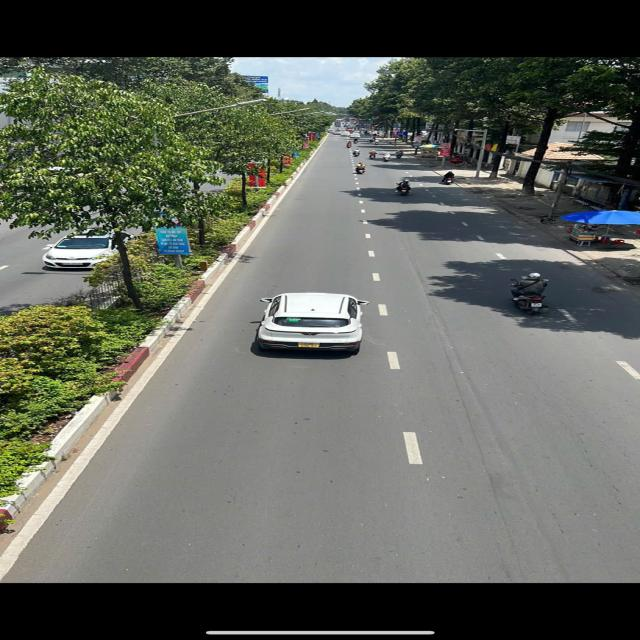car: (251, 290, 373, 357), (38, 226, 138, 274)
motobyte: (505, 270, 557, 317), (393, 177, 416, 198), (439, 168, 458, 186), (354, 161, 371, 175), (382, 150, 395, 163), (396, 147, 408, 161), (367, 148, 379, 161), (352, 147, 363, 159), (344, 140, 356, 149)
